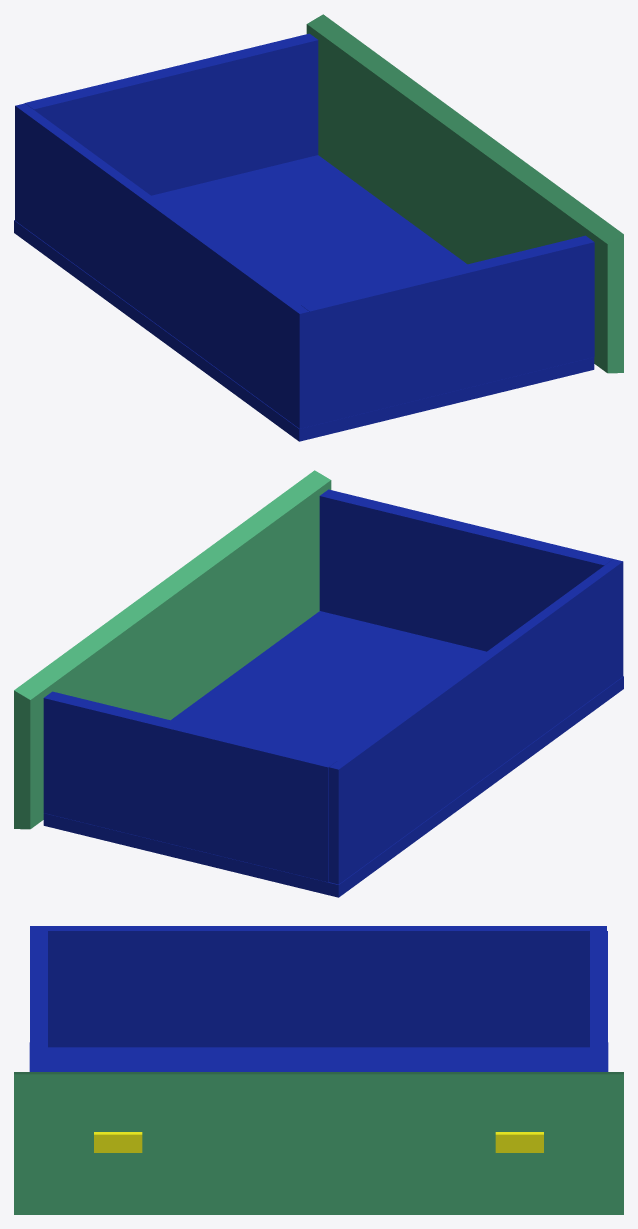
Rendered from Cajon_Sup.obj.
The picture shows the model from 3 angles, top to bottom: view 1: azimuth 30°, elevation 25°; view 2: azimuth 150°, elevation 25°; view 3: azimuth 270°, elevation 25°; orthographic projection.
Parts seen in each view (by area): view 1: polySurface103 polySurface59, polySurface59 polySurface95, polySurface59 polySurface113, polySurface59 polySurface131, polySurface59 polySurface108; view 2: polySurface103 polySurface59, polySurface59 polySurface95, polySurface59 polySurface108, polySurface59 polySurface131, polySurface59 polySurface113; view 3: polySurface103 polySurface59, polySurface59 polySurface95, polySurface59 polySurface131, polySurface59 polySurface108, polySurface59 polySurface113, polySurface59 polySurface99, polySurface59 polySurface100.
Boxes of the visible parts, box(x1,y1,x2,y2) form: polySurface103 polySurface59: box(306, 14, 623, 373); polySurface59 polySurface95: box(15, 103, 309, 428); polySurface59 polySurface113: box(301, 235, 594, 426); polySurface59 polySurface131: box(14, 155, 594, 441); polySurface59 polySurface108: box(25, 33, 318, 195); polySurface103 polySurface59: box(14, 470, 331, 829); polySurface59 polySurface95: box(329, 559, 623, 884); polySurface59 polySurface108: box(43, 691, 336, 882); polySurface59 polySurface131: box(43, 611, 623, 897); polySurface59 polySurface113: box(319, 489, 612, 651); polySurface103 polySurface59: box(14, 1072, 623, 1214); polySurface59 polySurface95: box(30, 926, 606, 1047); polySurface59 polySurface131: box(29, 1042, 608, 1071); polySurface59 polySurface108: box(590, 931, 607, 1071); polySurface59 polySurface113: box(30, 931, 47, 1071); polySurface59 polySurface99: box(495, 1132, 543, 1152); polySurface59 polySurface100: box(94, 1132, 142, 1152).
Bounding box in the file's own units: 0.9409 × 0.3861 × 1.52.
Materials: 3 (3 with a texture image).
